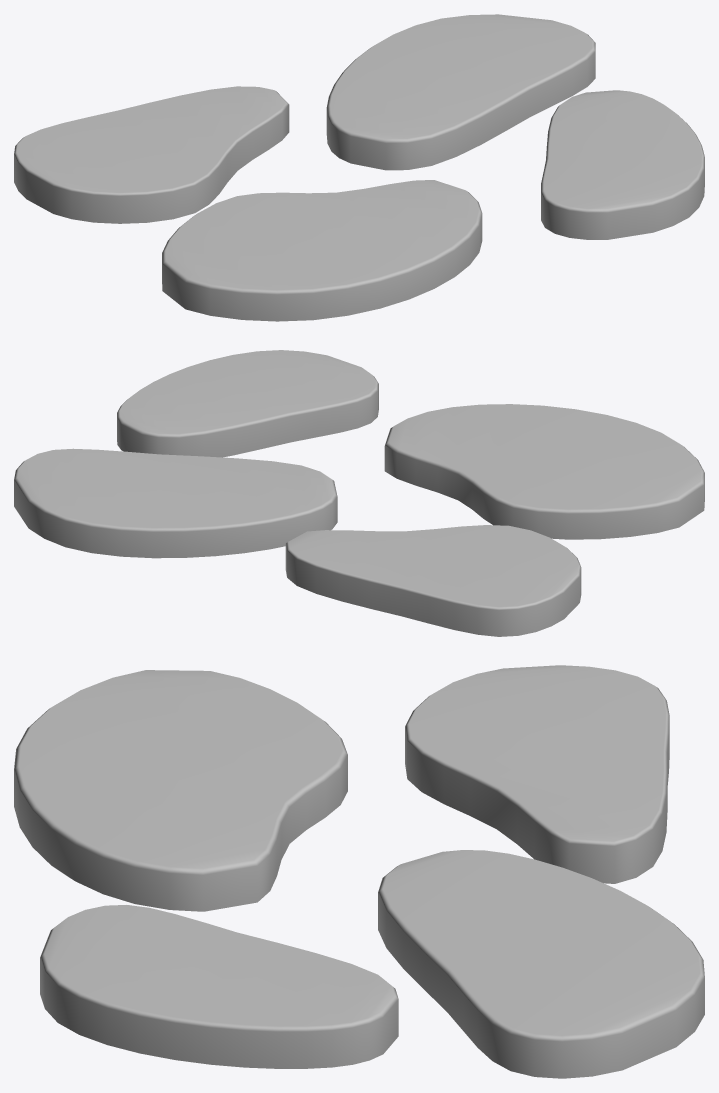
The model's file is Town_20_Path_2.glb.
3 renders of one model, top to bottom at view 1: azimuth 30°, elevation 25°; view 2: azimuth 150°, elevation 25°; view 3: azimuth 270°, elevation 25°, orthographic. The views are drawn at different scales.
Parts seen in each view (by area): view 1: Town_20_Path_2; view 2: Town_20_Path_2; view 3: Town_20_Path_2.
Boxes of the visible parts, box(x1,y1,x2,y2) form: Town_20_Path_2: box(14, 14, 704, 321); Town_20_Path_2: box(14, 350, 704, 636); Town_20_Path_2: box(14, 665, 704, 1078).
Bounding box in the file's own units: 1.57 × 0.0802 × 1.23.
Materials: 1 (1 with a texture image).
